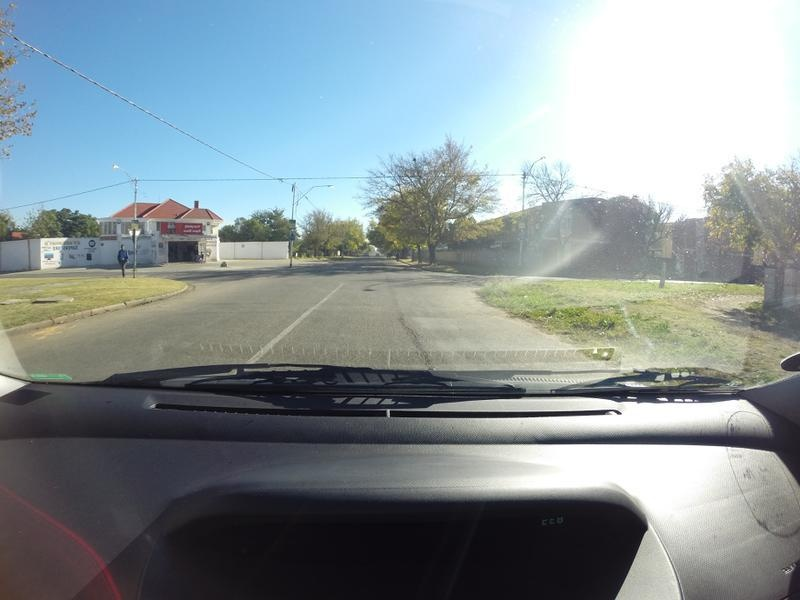pothole: (359, 286, 373, 296)
